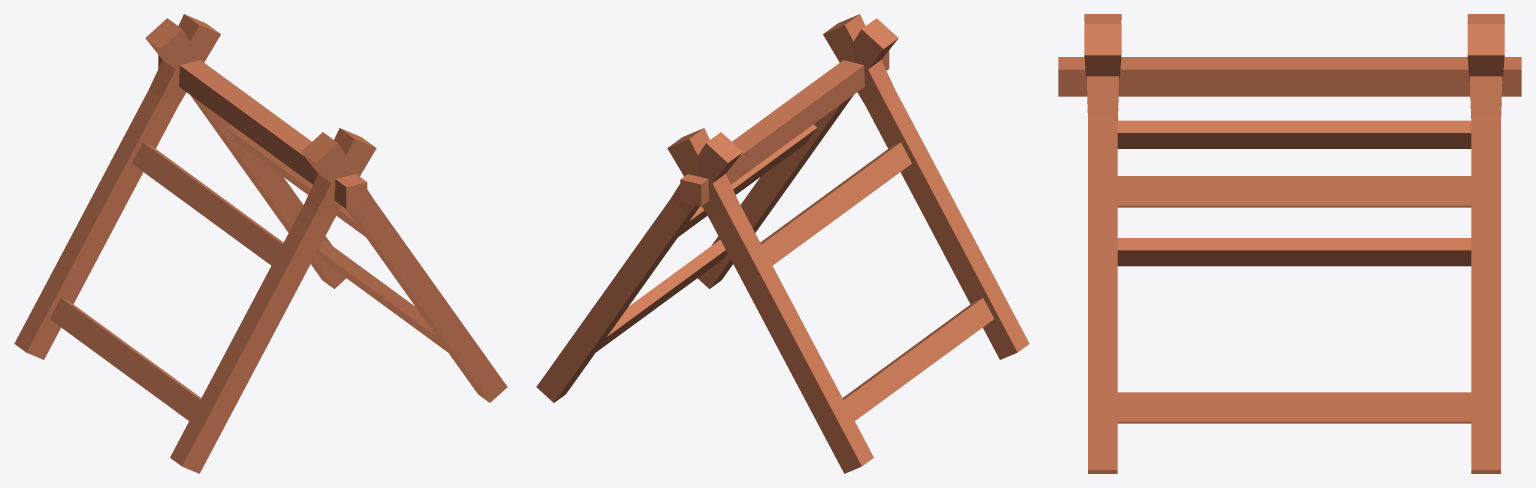
The model's file is tent.obj.
The picture shows the model from 3 angles, left to right: view 1: azimuth 30°, elevation 25°; view 2: azimuth 150°, elevation 25°; view 3: azimuth 270°, elevation 25°; orthographic projection. The views are drawn at different scales.
Size of the model in its own units: 0.5608 by 0.4914 by 0.561.
